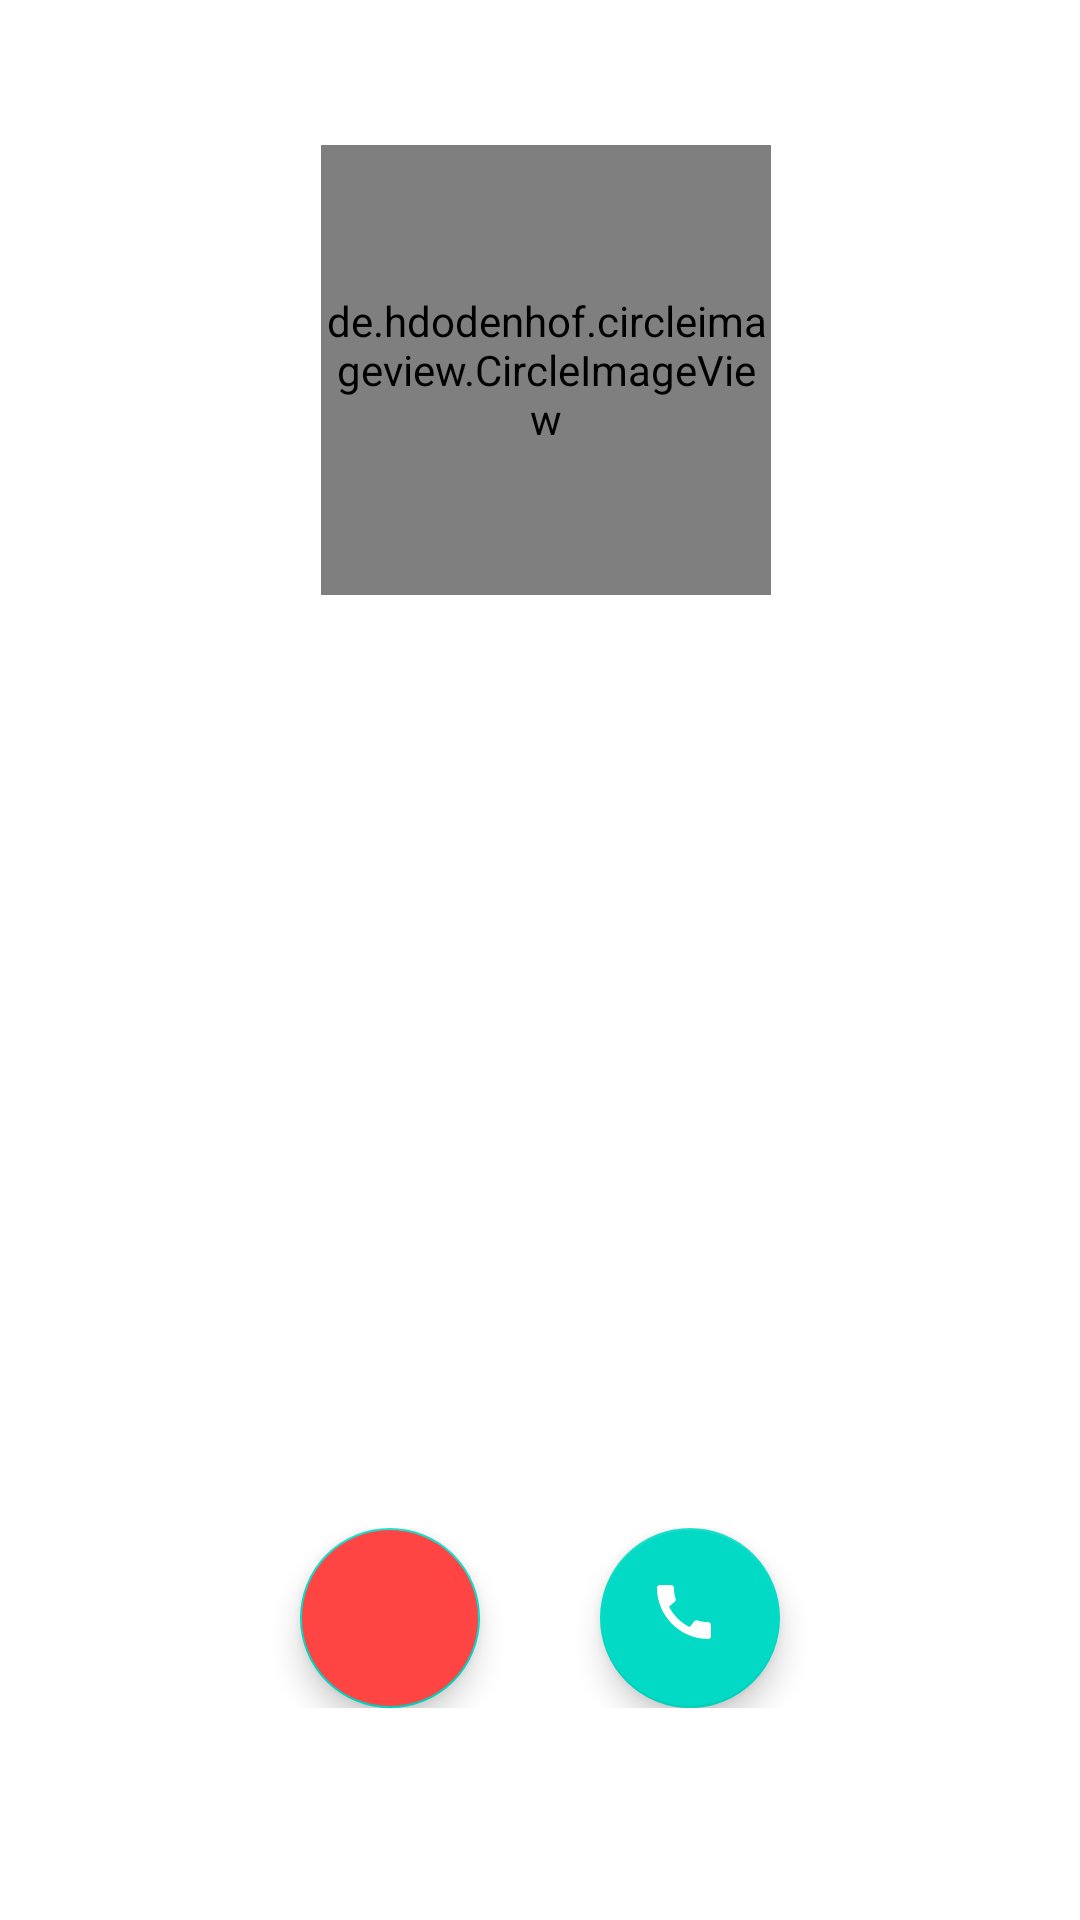

Point at icon controls on the screen. Image size 1080*1920, points as [x,y].
call: [690,1618]
